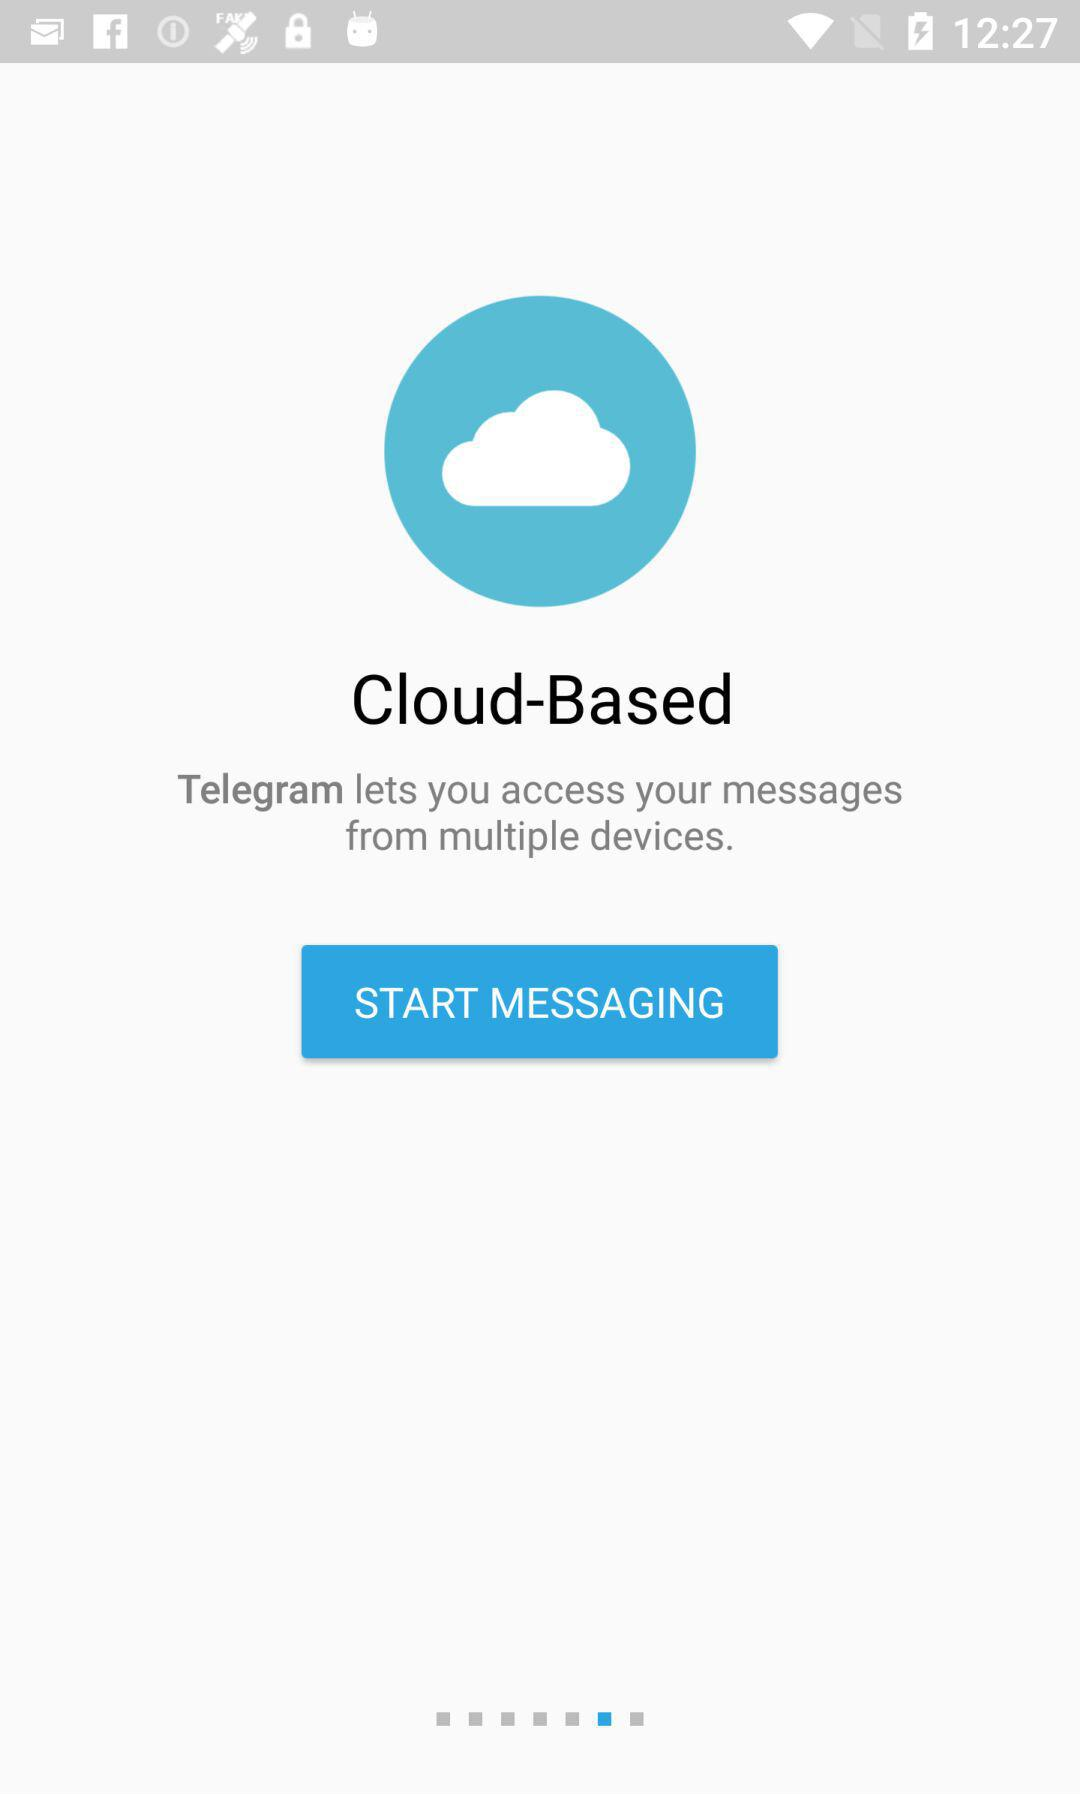Image: (383, 295, 696, 607)
PageIndicator: (436, 1709, 646, 1727)
Text: (177, 771, 904, 861), (354, 671, 733, 729)
TextButton: (301, 944, 780, 1060)
UpperTaskBar: (1, 1, 1080, 64)
